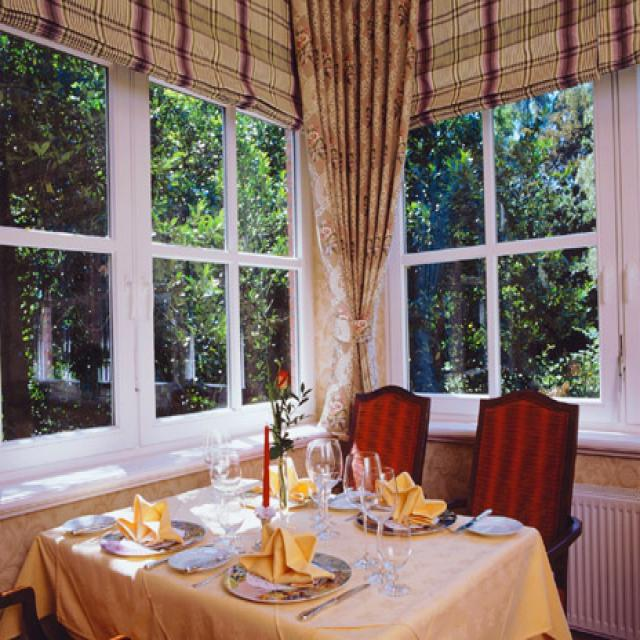2001: (1, 5, 313, 480), (378, 51, 622, 429)
candle holder: (262, 424, 269, 506)
chair part: (444, 389, 581, 619), (332, 384, 430, 488)
curtain crop: (290, 0, 420, 443), (356, 0, 639, 144)
dish -X: (225, 550, 348, 603), (101, 517, 204, 554), (459, 512, 519, 534), (170, 546, 226, 568)
floor -X: (33, 546, 633, 638)
flower basket: (268, 368, 306, 453)
glass ceiling: (341, 450, 378, 568), (377, 514, 410, 594), (211, 446, 239, 517), (215, 496, 244, 555)
knife holder: (297, 581, 370, 619), (452, 506, 490, 531)
napkin ring: (232, 520, 335, 584), (112, 491, 181, 542)
radiator occluded: (568, 483, 637, 638)
table runner: (0, 474, 570, 638)
vase -X: (274, 461, 284, 514)
wall clock: (0, 0, 354, 638), (354, 0, 639, 637)
